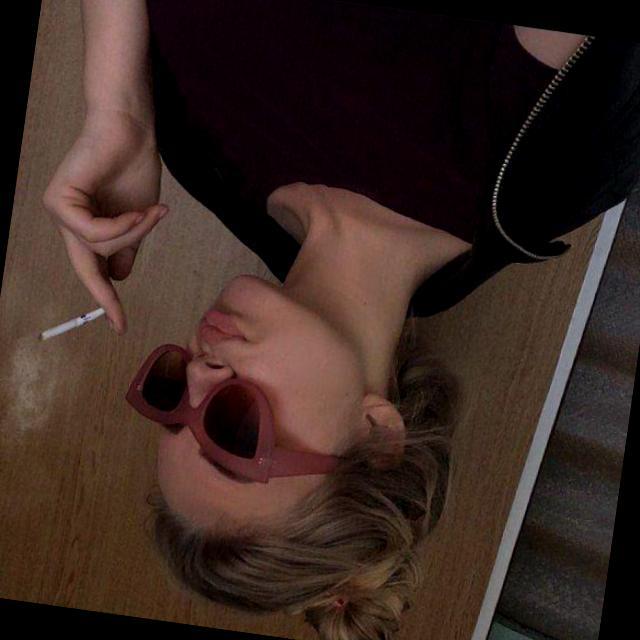cigarette: (20, 274, 136, 367)
